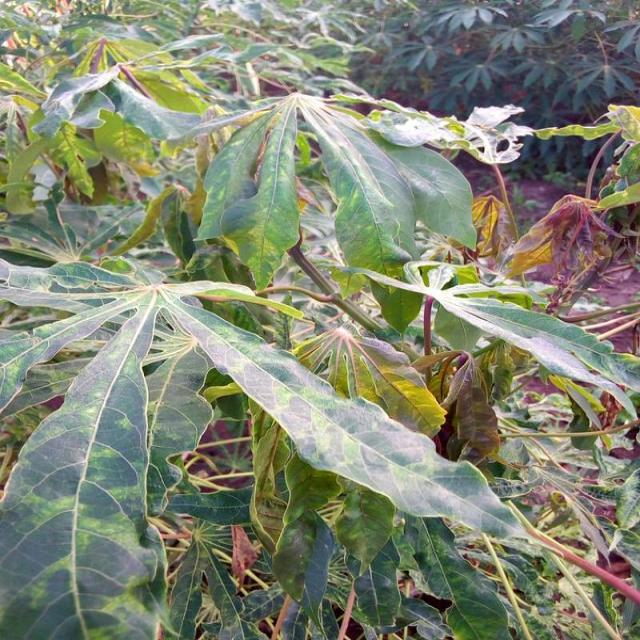cassava leaf: (160, 289, 530, 548), (0, 291, 170, 638), (194, 97, 300, 290)
